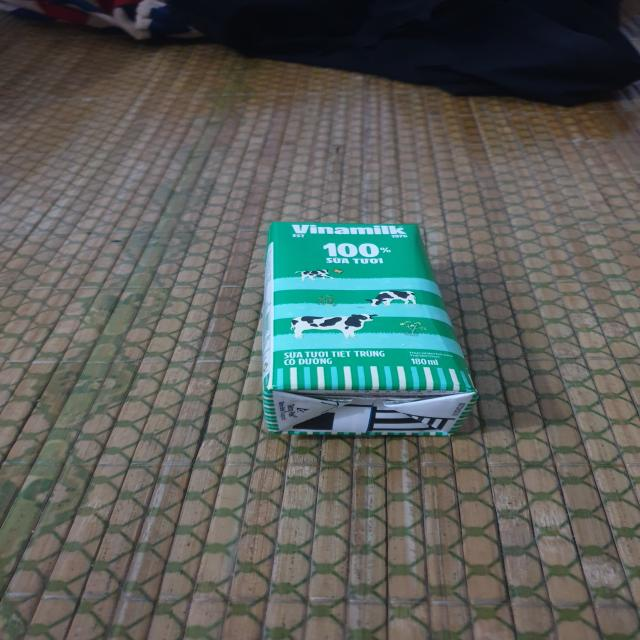Vina: (257, 219, 483, 443)
